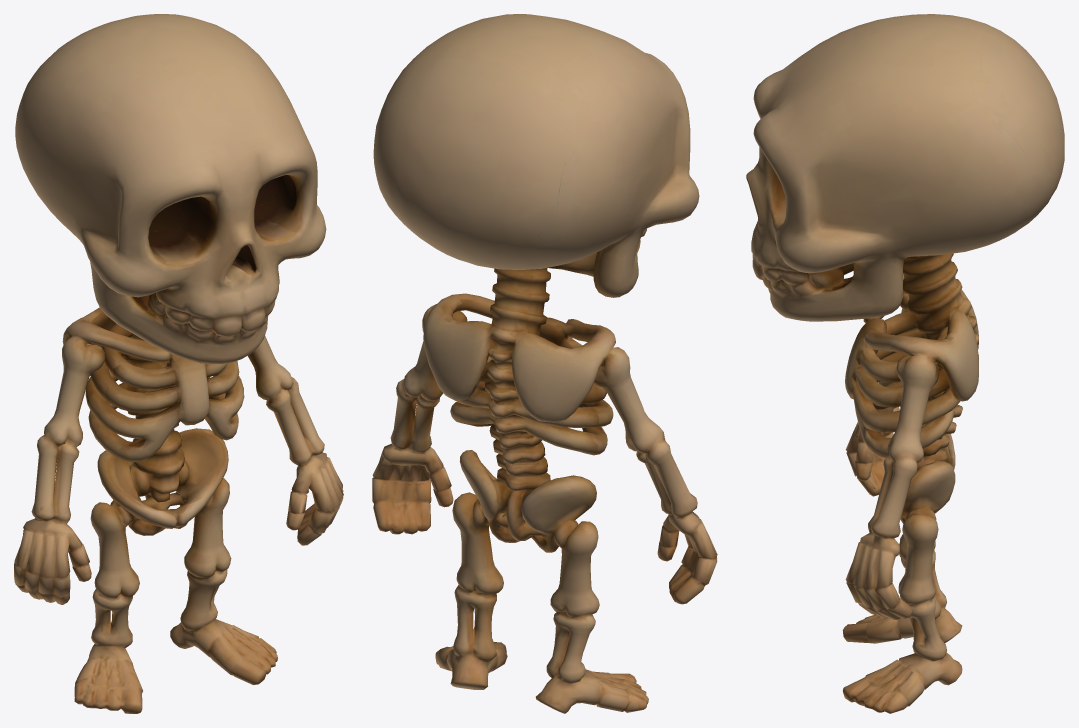
Rendered from cute_skull_character.glb.
3 renders of one model, left to right at view 1: azimuth 30°, elevation 25°; view 2: azimuth 150°, elevation 25°; view 3: azimuth 270°, elevation 25°, orthographic. The views are drawn at different scales.
Visible parts, largest first — view 1: texture_pbr_v128_0; view 2: texture_pbr_v128_0; view 3: texture_pbr_v128_0.
Part boxes in pixels (<box>): texture_pbr_v128_0: <box>14,14,343,713</box>; texture_pbr_v128_0: <box>372,14,717,713</box>; texture_pbr_v128_0: <box>746,14,1064,713</box>.
Size of the model in its own units: 0.6176 by 1.15 by 0.5204.
Materials: 1 (1 with a texture image).
